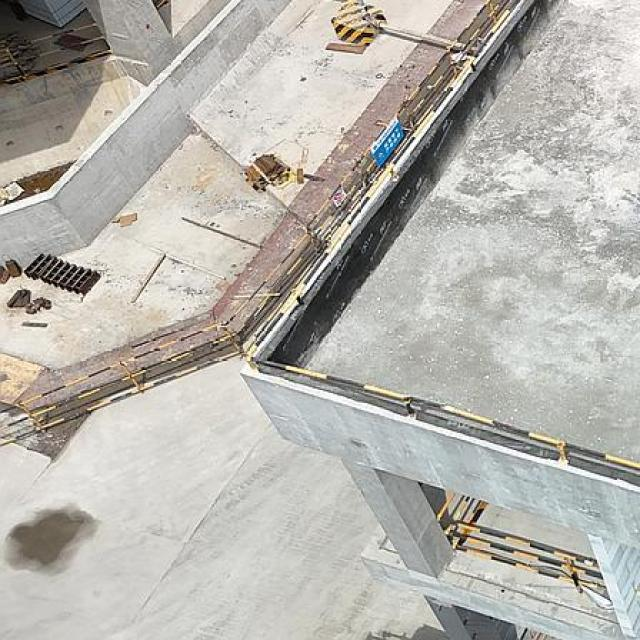edge_guardrail: (243, 1, 640, 469), (435, 491, 608, 593), (0, 22, 111, 83), (154, 0, 167, 10)
